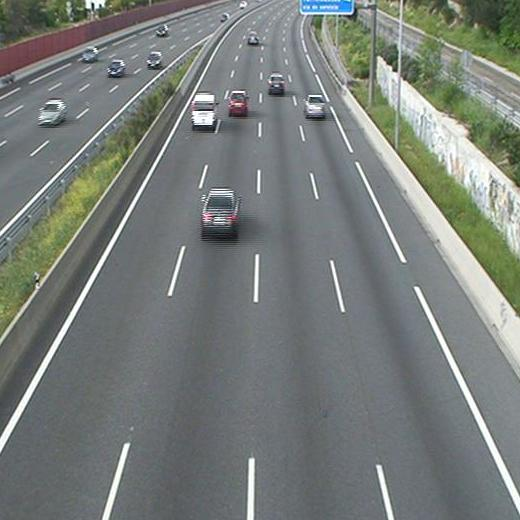car: (201, 190, 240, 232), (305, 96, 326, 116), (228, 91, 247, 113), (268, 74, 284, 91), (247, 32, 260, 44)
van: (192, 93, 216, 126)
